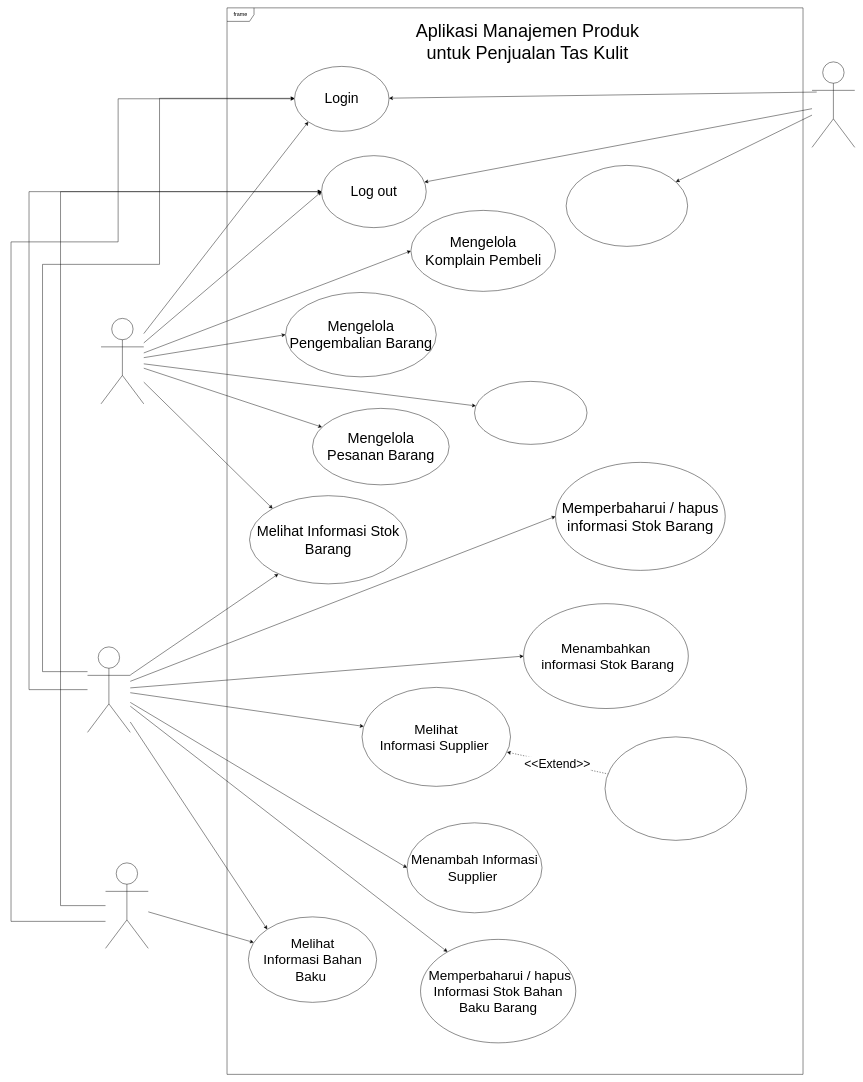
This 863x1082 diagram has some shape labels left out. Each missing label, with the box of its shape:
Admin: (812, 61, 855, 147)
Membuat Nota: (474, 381, 587, 444)
Memperbaharui / hapus Informasi Supplier: (605, 736, 747, 840)
Registerasi Staff: (566, 165, 688, 246)
Staff Gudang: (87, 646, 130, 732)
Staff Penjualan: (101, 318, 144, 404)
Staff Produksi Barang: (105, 862, 148, 948)
